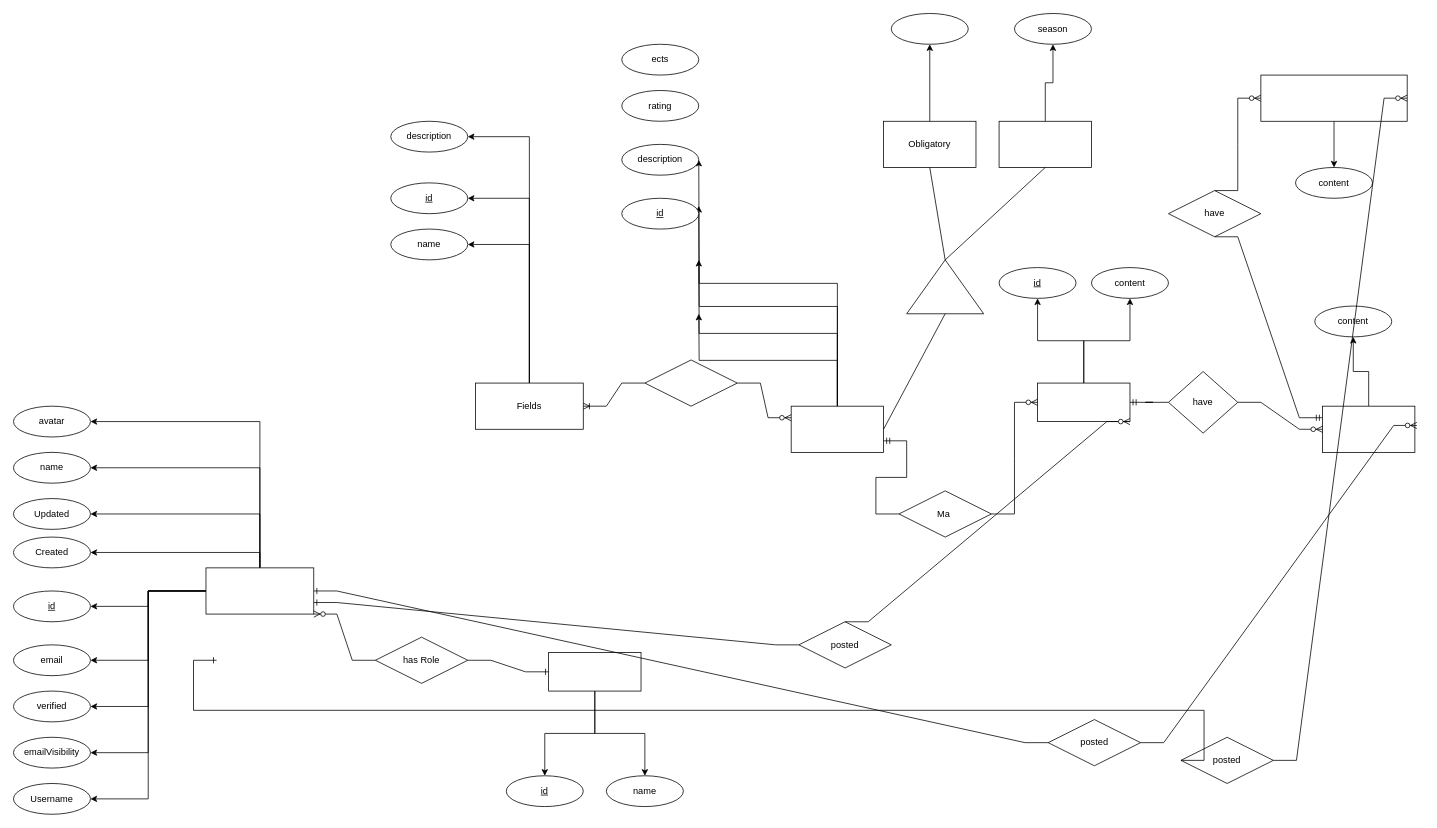
This 1437x828 diagram has some shape labels left out. The shapes that lost their labels are listed below. From the top down, each one's centre as x and y in pixels, then its label:
At pixel 929 28: "semester".
At pixel 1333 97: "SubComments".
At pixel 1044 144: "Optional".
At pixel 690 382: "posiada".
At pixel 1083 402: "Reviews".
At pixel 837 428: "Courses".
At pixel 1368 428: "Comments".
At pixel 259 590: "Users".
At pixel 594 671: "Roles".
